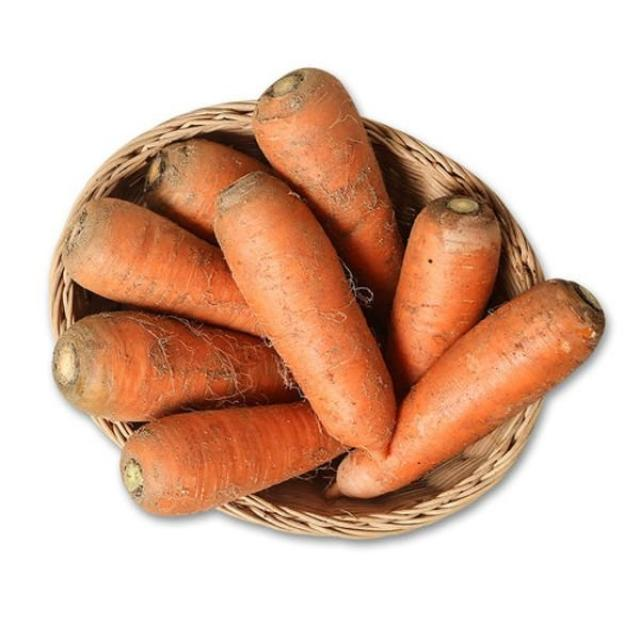carrot: (318, 277, 608, 503), (210, 168, 404, 456), (254, 66, 413, 288), (64, 198, 284, 349), (54, 310, 319, 420), (119, 403, 358, 520), (383, 194, 504, 383)
